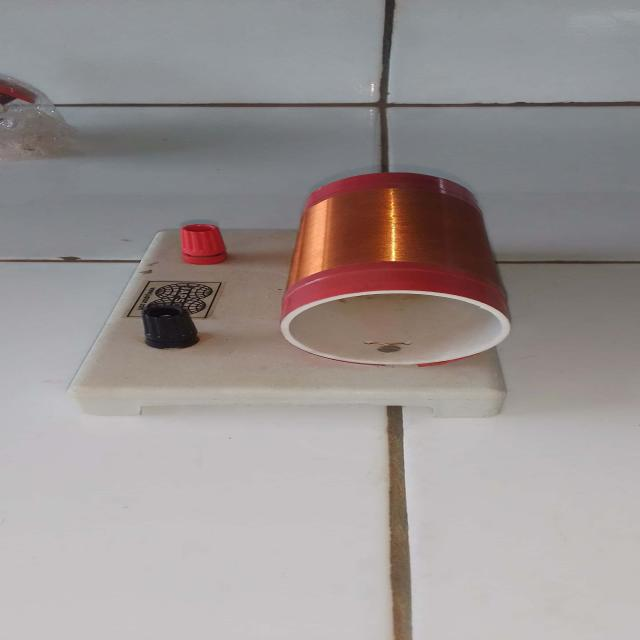Solenoid: (82, 168, 578, 439)
